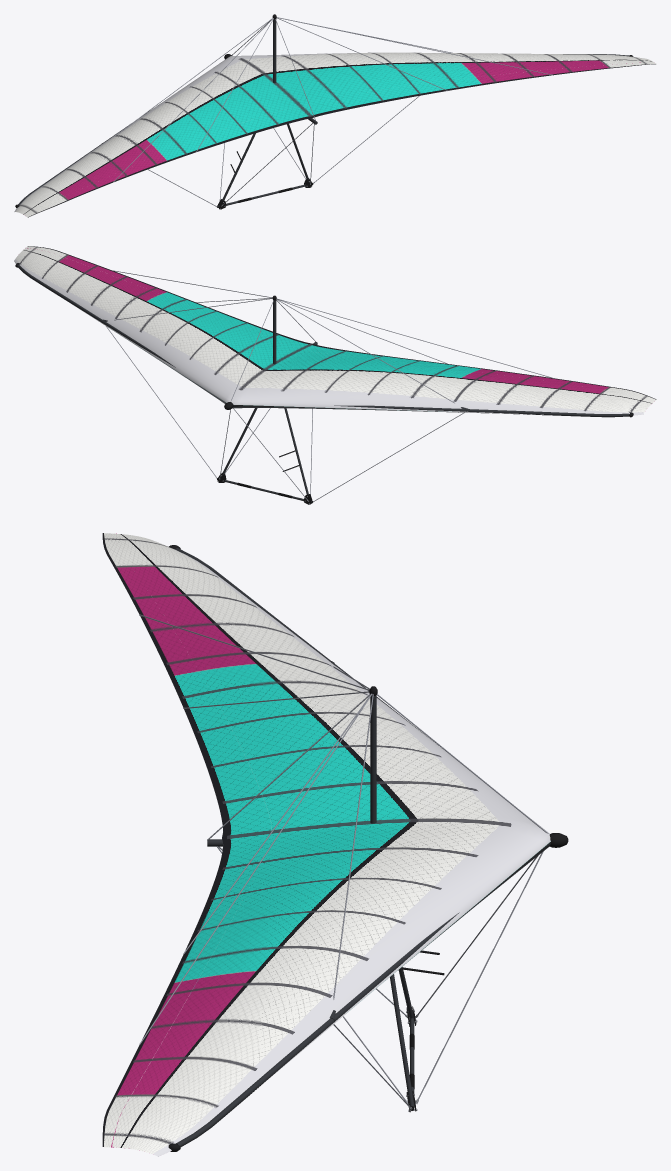
The model's file is glider_aeros_discus.glb.
The picture shows the model from 3 angles, top to bottom: view 1: azimuth 30°, elevation 25°; view 2: azimuth 150°, elevation 25°; view 3: azimuth 270°, elevation 25°; orthographic projection. The views are drawn at different scales.
Visible parts, largest first — view 1: Sail, Frame, ControlFrame; view 2: Sail, Frame, ControlFrame; view 3: Sail, Frame, ControlFrame.
Part boxes in pixels (x1,y1,x2,y2): Sail: (14,52,656,217); Frame: (15,14,633,207); ControlFrame: (148,96,419,209); Sail: (14,246,656,415); Frame: (15,263,633,417); ControlFrame: (106,326,464,504); Sail: (102,533,550,1156); Frame: (139,545,568,1151); ControlFrame: (216,846,543,1112).
Size of the model in its own units: 10 by 2.9 by 3.21.
Materials: 8 (1 with a texture image).
